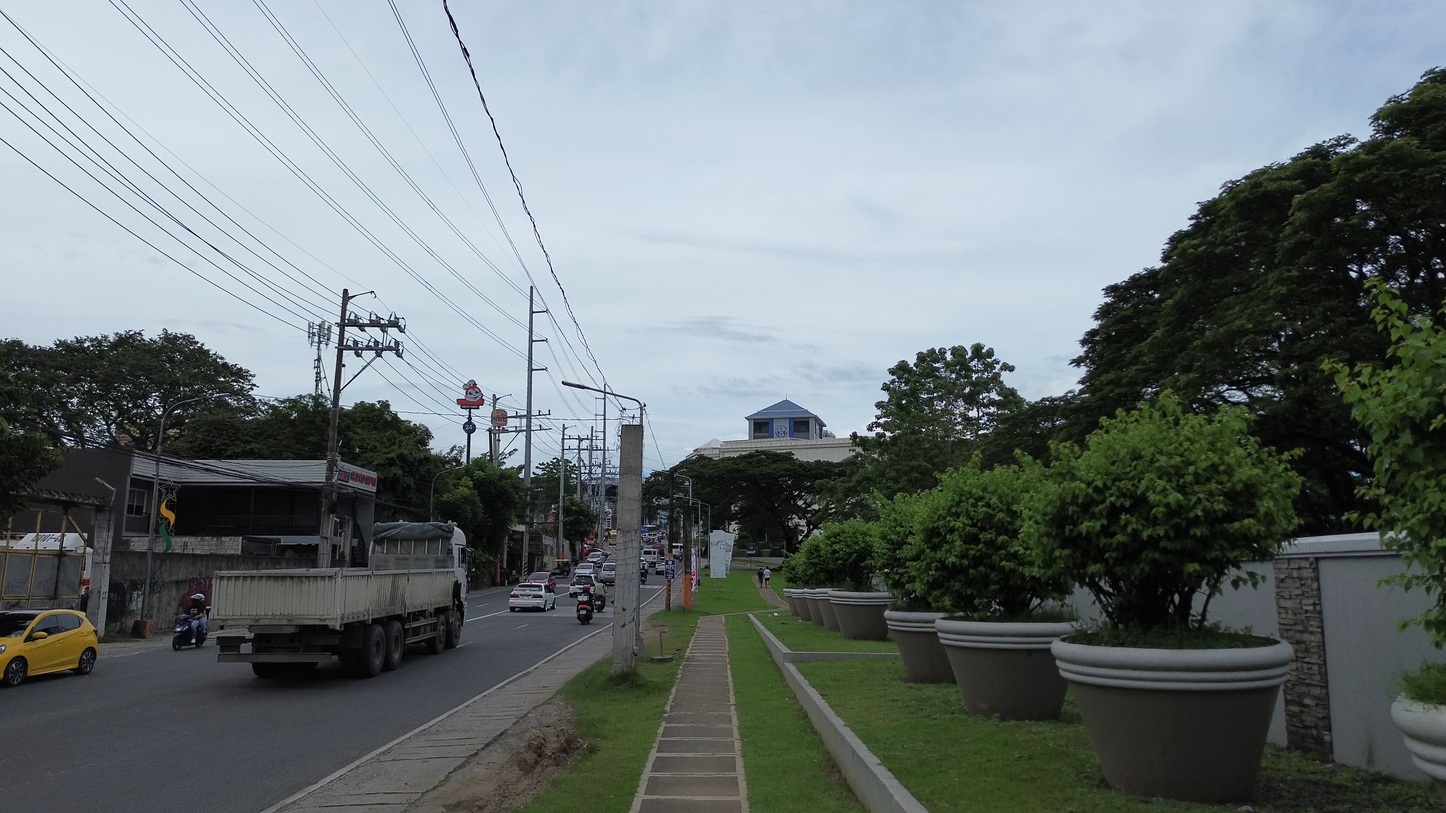car: (0, 609, 98, 686), (569, 574, 598, 597), (524, 571, 555, 592), (574, 562, 598, 575), (587, 550, 606, 565)
motorcycle: (172, 614, 206, 650), (576, 594, 594, 624), (640, 563, 649, 583)
truck: (211, 522, 468, 677)
vehicle: (508, 581, 555, 611), (172, 613, 206, 650), (569, 573, 598, 597), (641, 545, 663, 568), (599, 561, 617, 585), (587, 551, 607, 565), (640, 564, 649, 583)
